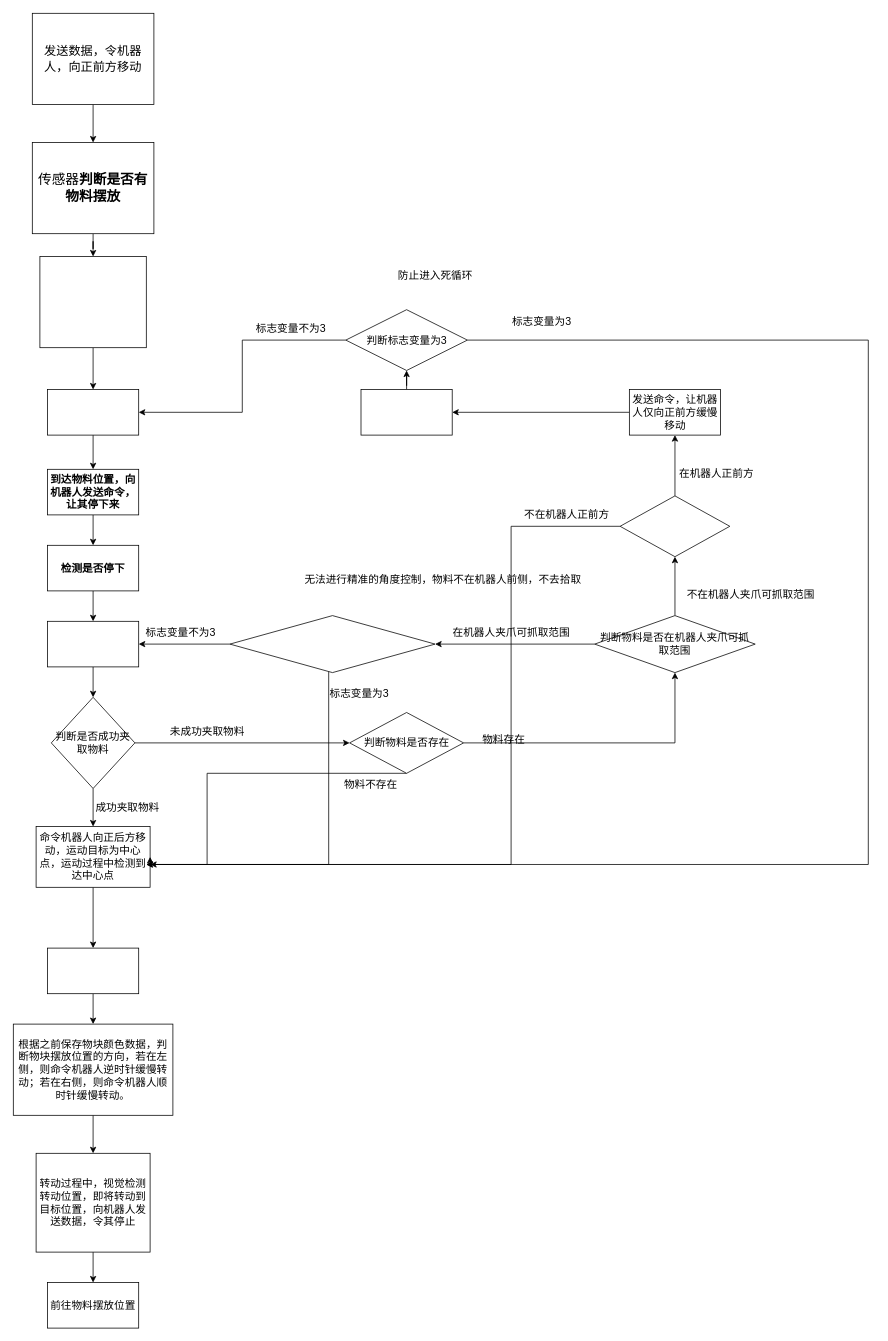
Some shapes in this 888 by 1341 pixel diagram are drawn without their labels. Each missing label, with the centre of its shape:
判断是否到达物料位置: the point at 93,412
判断物料是否在机器人正前方: the point at 674,526
到达中心点，发送命令，命令机器人停止运动: the point at 93,970
建立标志变量限制，程序每运行到此处，标志位数据加一，判断标志变量是否3: the point at 332,644
建立标志变量，程序每次运行到此处，标志变量加一: the point at 406,412
检测到物料存在 ，检测到物料颜色数据， 保存物料颜色数据: the point at 92,302
让机器人发送夹取物料命令: the point at 93,644
